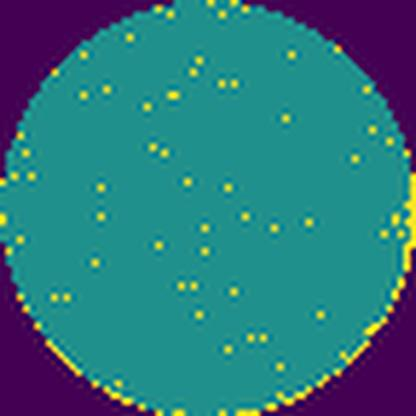Edge-Ring: (37, 167, 415, 416)
